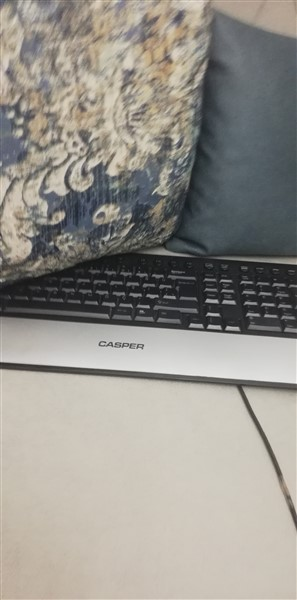klavye: (1, 245, 297, 396)
